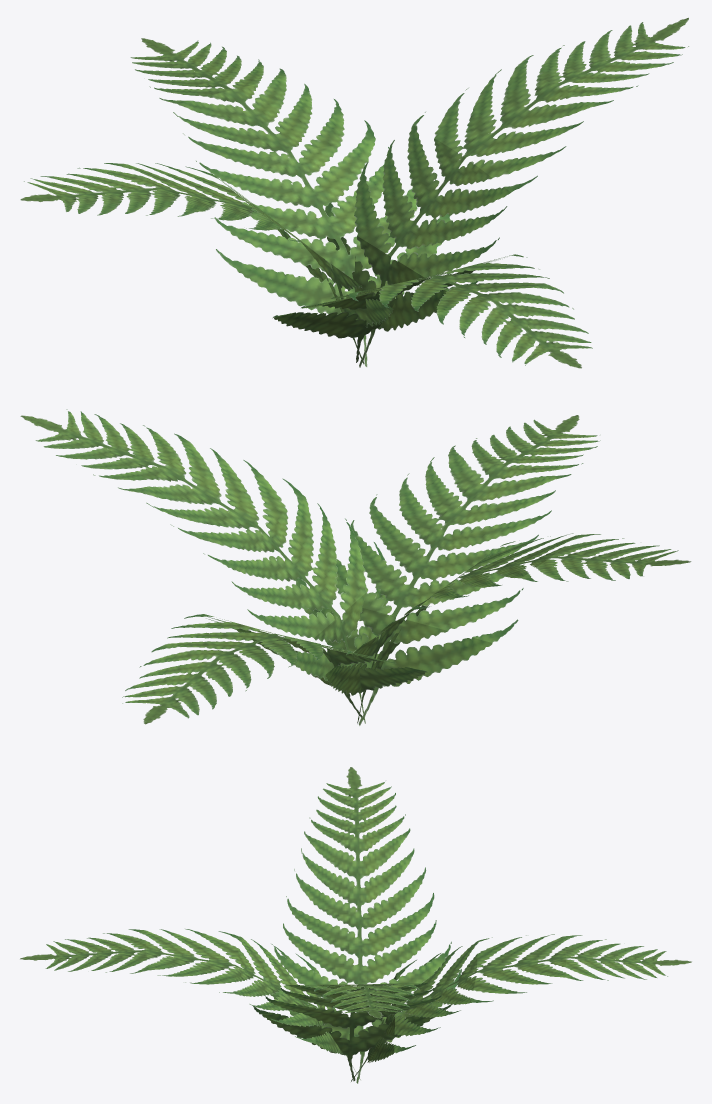
Rendered from Samambaia_02.fbx.
3 renders of one model, top to bottom at view 1: azimuth 30°, elevation 25°; view 2: azimuth 150°, elevation 25°; view 3: azimuth 270°, elevation 25°, orthographic. The views are drawn at different scales.
Parts seen in each view (by area): view 1: SM_Fern_01; view 2: SM_Fern_01; view 3: SM_Fern_01.
Boxes of the visible parts, x1,y1,x2,y2 form: SM_Fern_01: [20, 17, 688, 368]; SM_Fern_01: [20, 409, 691, 725]; SM_Fern_01: [20, 767, 691, 1083].
Bounding box in the file's own units: 64.57 × 22.99 × 72.75.
